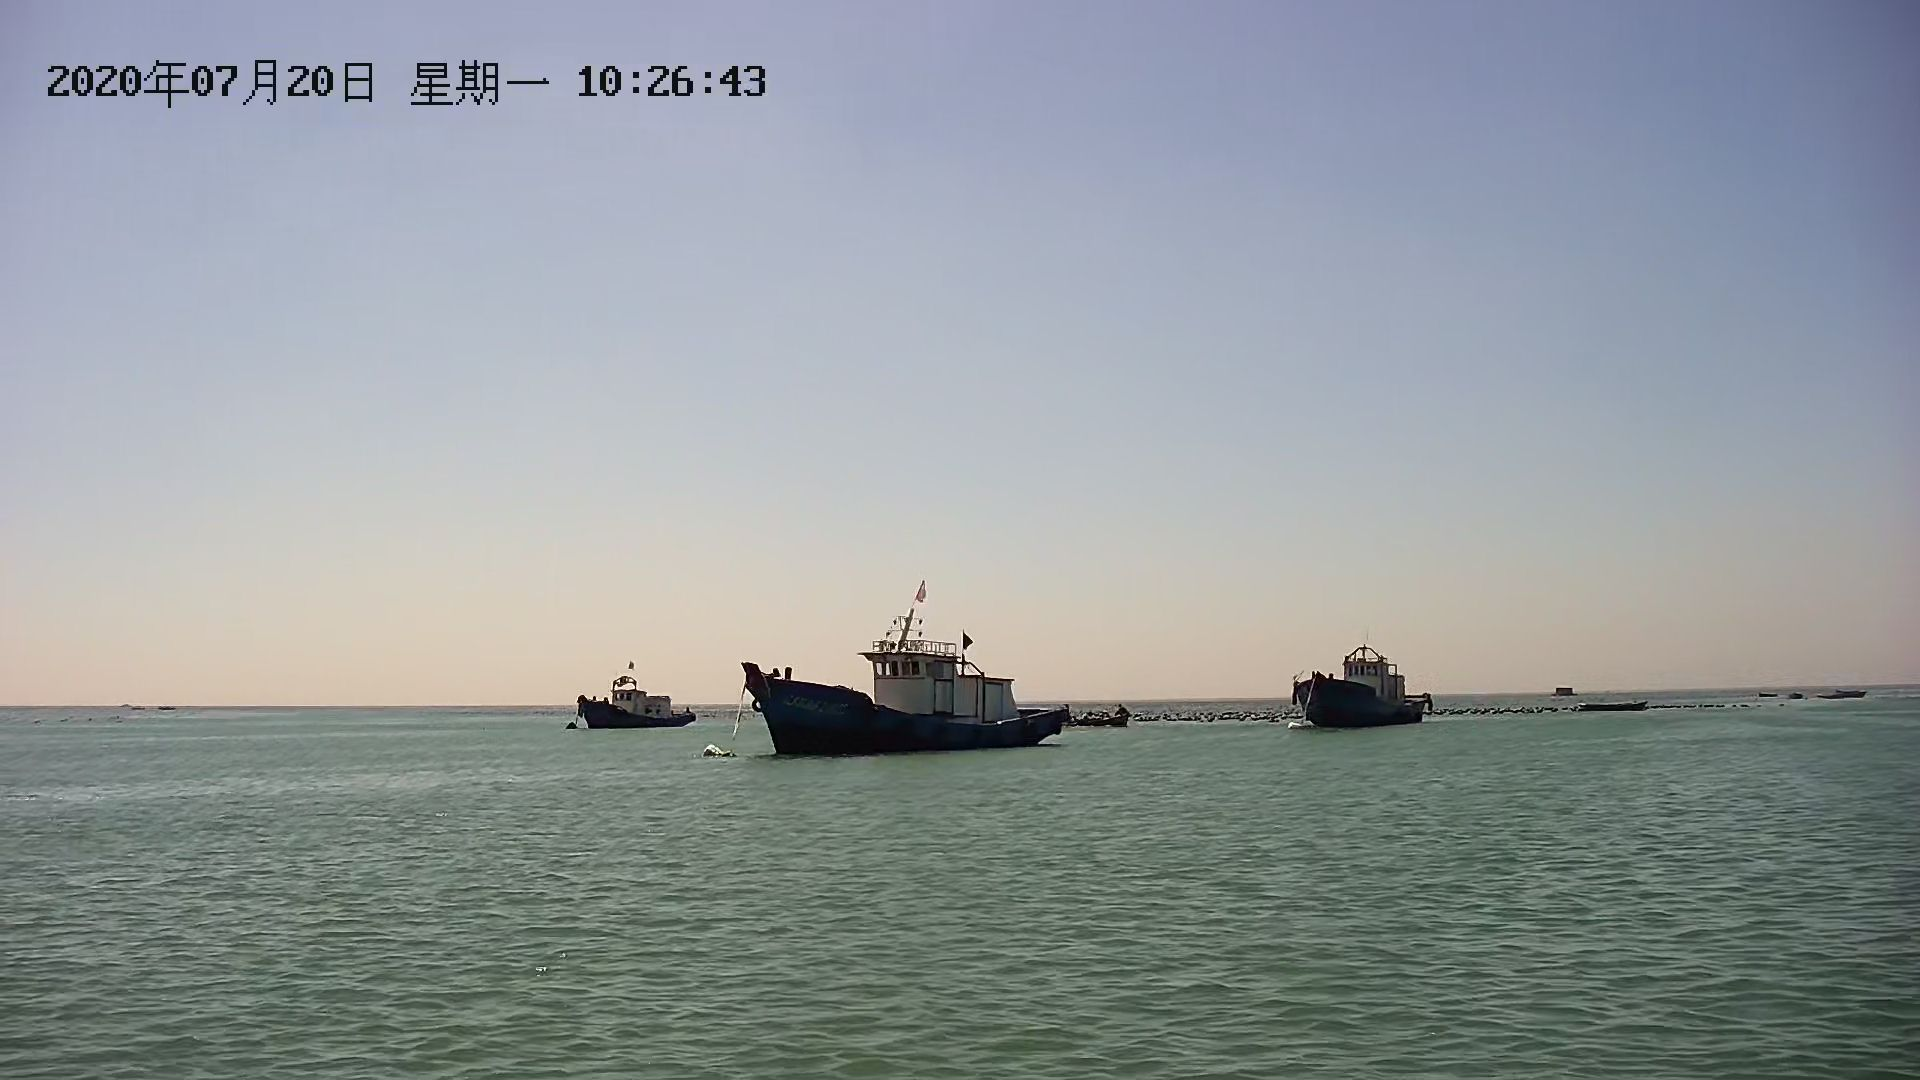rubbish: (691, 736, 727, 765)
ship: (735, 632, 1071, 760), (1291, 651, 1429, 731), (571, 674, 698, 732)
